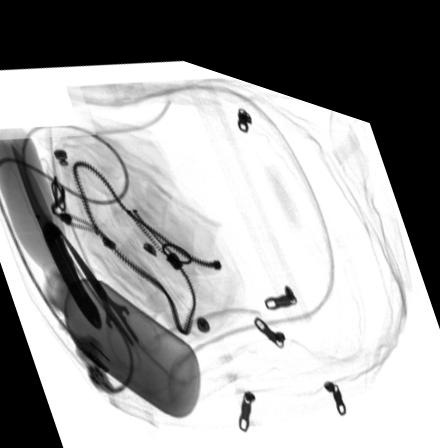Knife: (8, 140, 102, 324)
Scissors: (56, 220, 159, 369)
